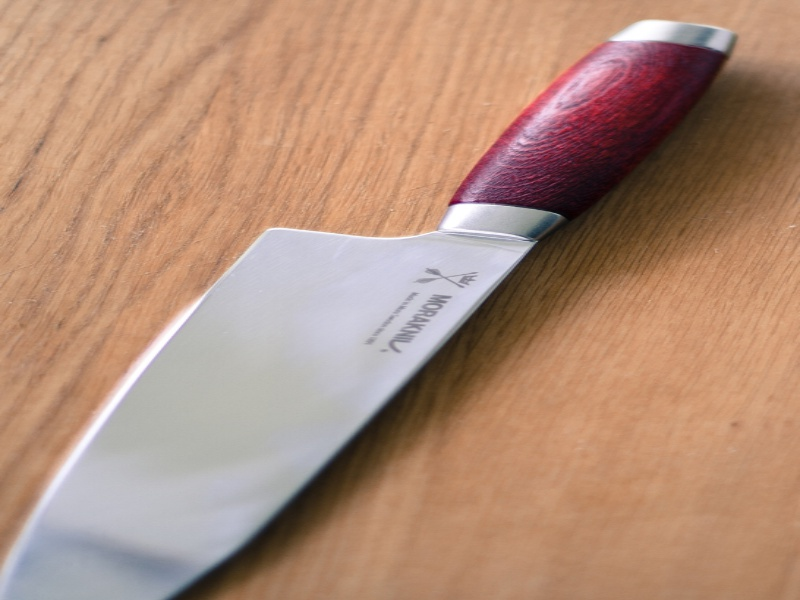knife: (1, 18, 739, 599)
